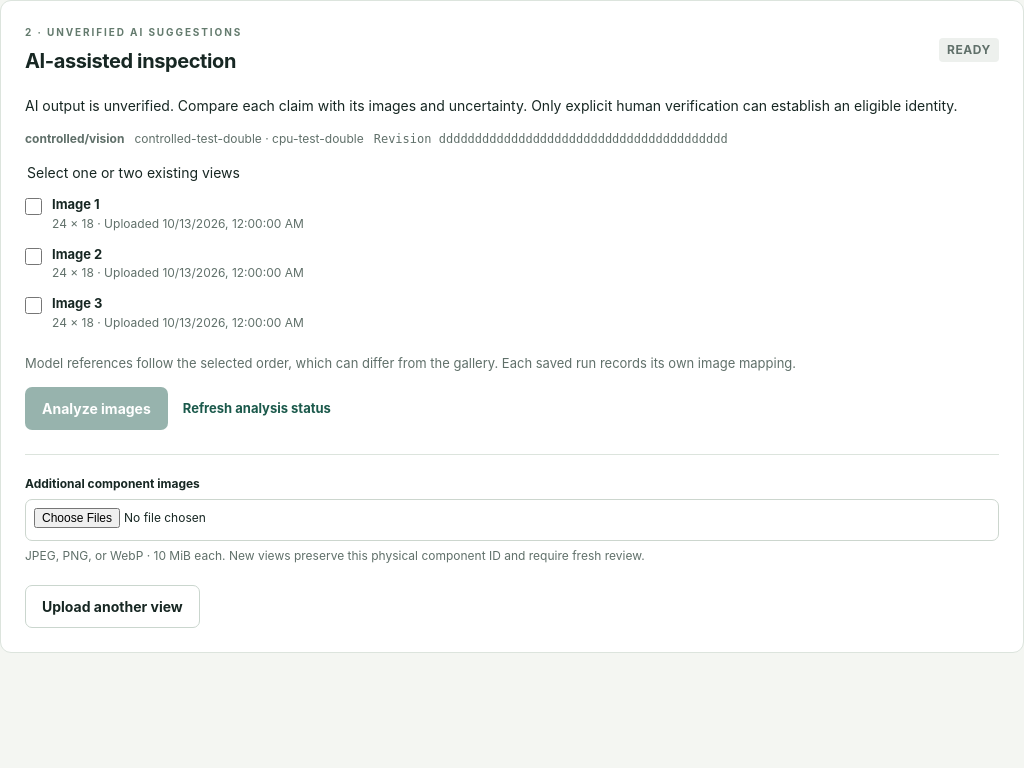
Test case: inspection requests and explicit human actions › surfaces an authorization failure without inventing a result
Click the checkbox labelled "Image 1 24 × 18 · Uploaded 10/13/2026, 12:00:00 AM": click(34, 206) [25,198,42,215]
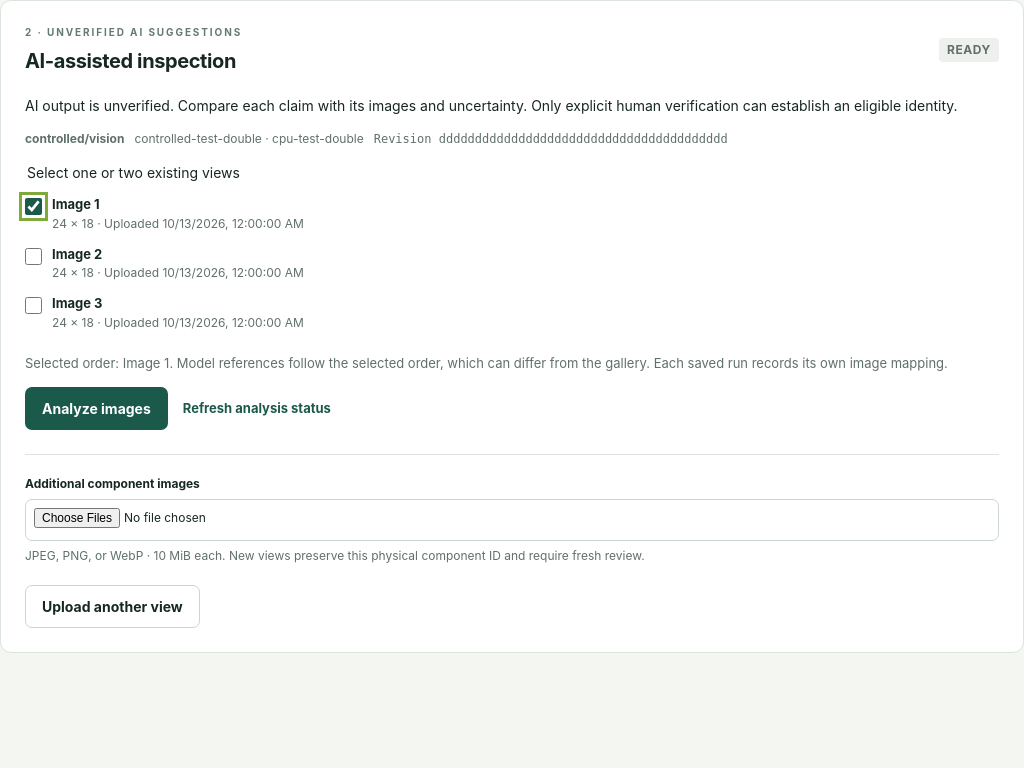
Click the button "Analyze images": click(96, 408) [25,387,168,430]
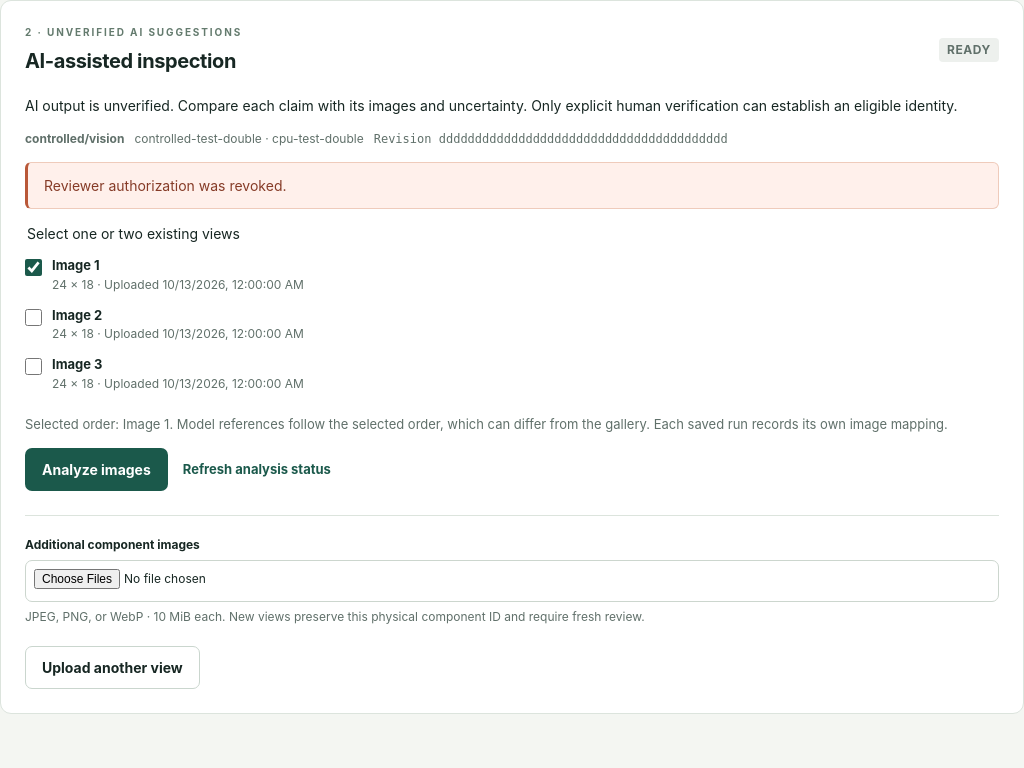
Check: the message reads "Reviewer authorization was revoked.", box [44,177,286,194]
